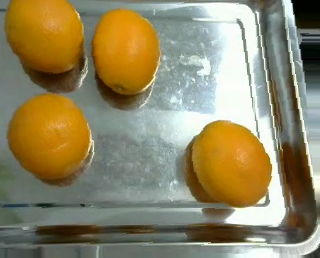Orange: (4, 91, 91, 181), (190, 120, 271, 207), (92, 8, 161, 94), (5, 1, 84, 74)
